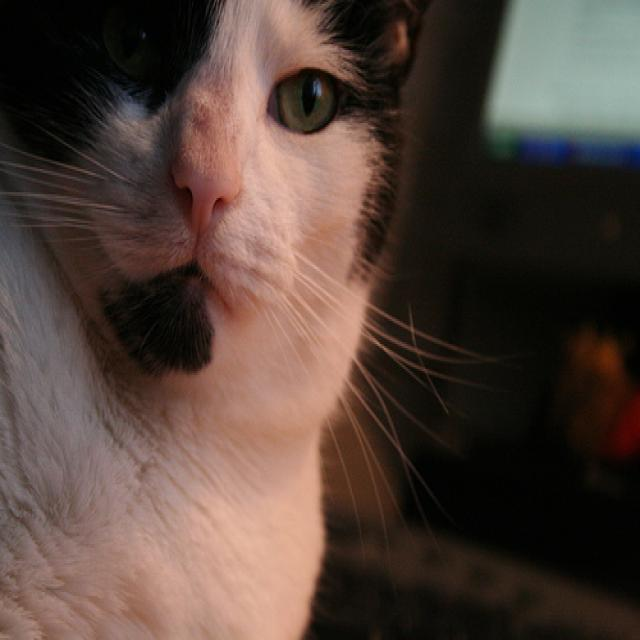left eye: (266, 62, 344, 136)
